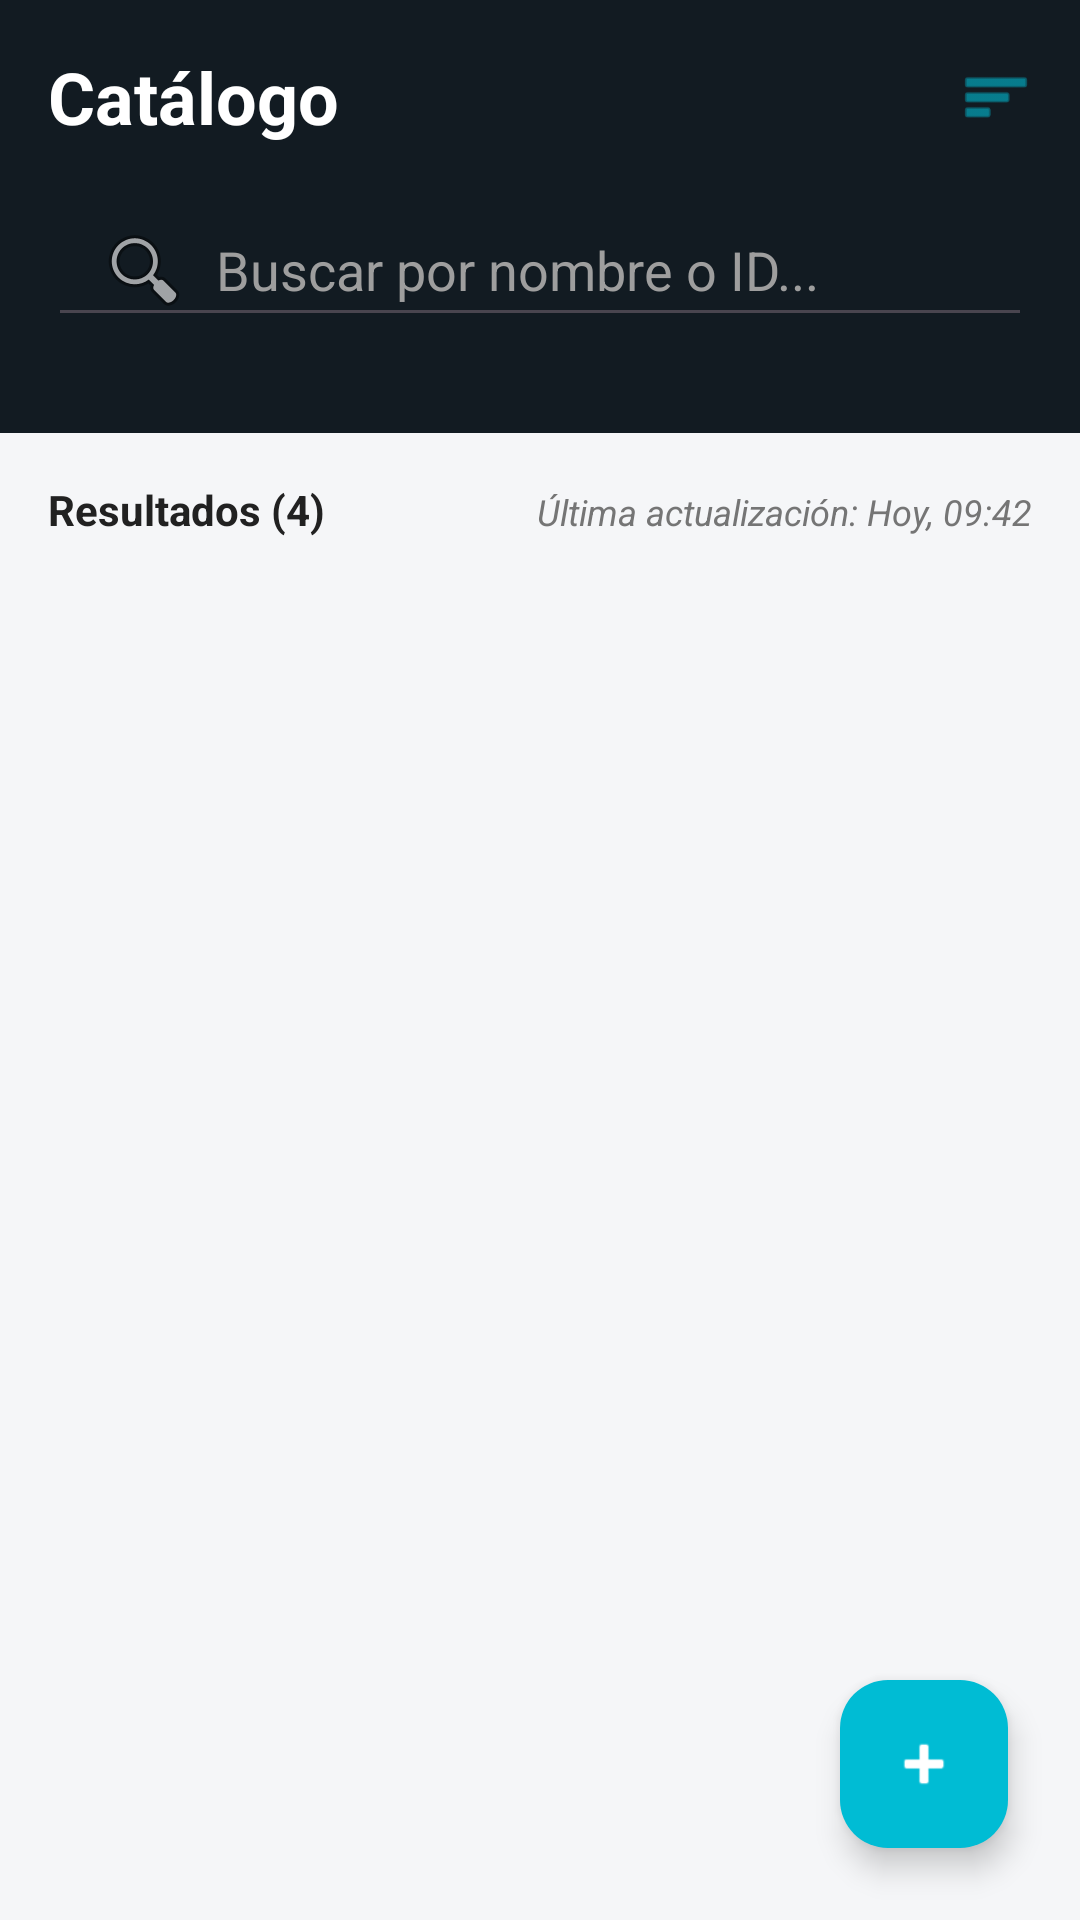

Locate icon controls on the screen. Image size 1080px x 1920px, boxes as (x1, y1, x2, y2).
add: (840, 1680, 1008, 1848)
sort by size: (965, 77, 1027, 118)
